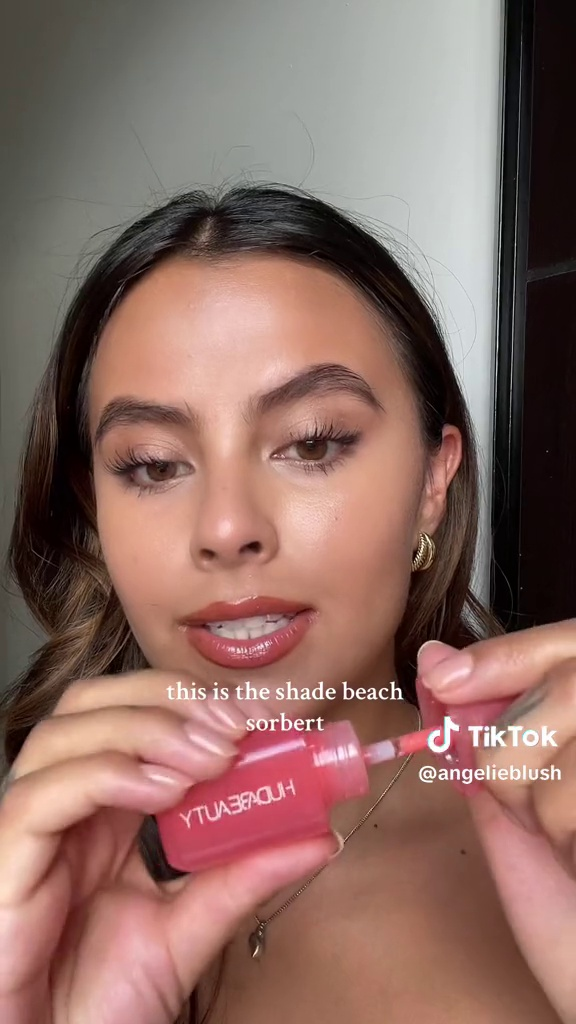train' :'yolo_data/train/images',: (144, 707, 378, 877), (361, 659, 560, 795)
